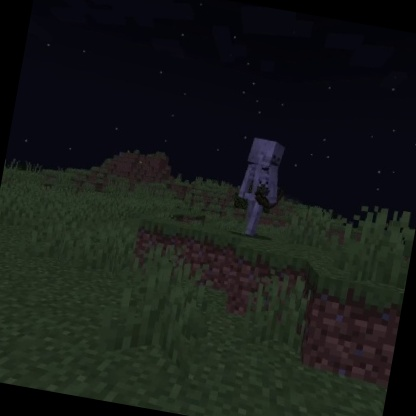skeleton: (228, 133, 296, 243)
